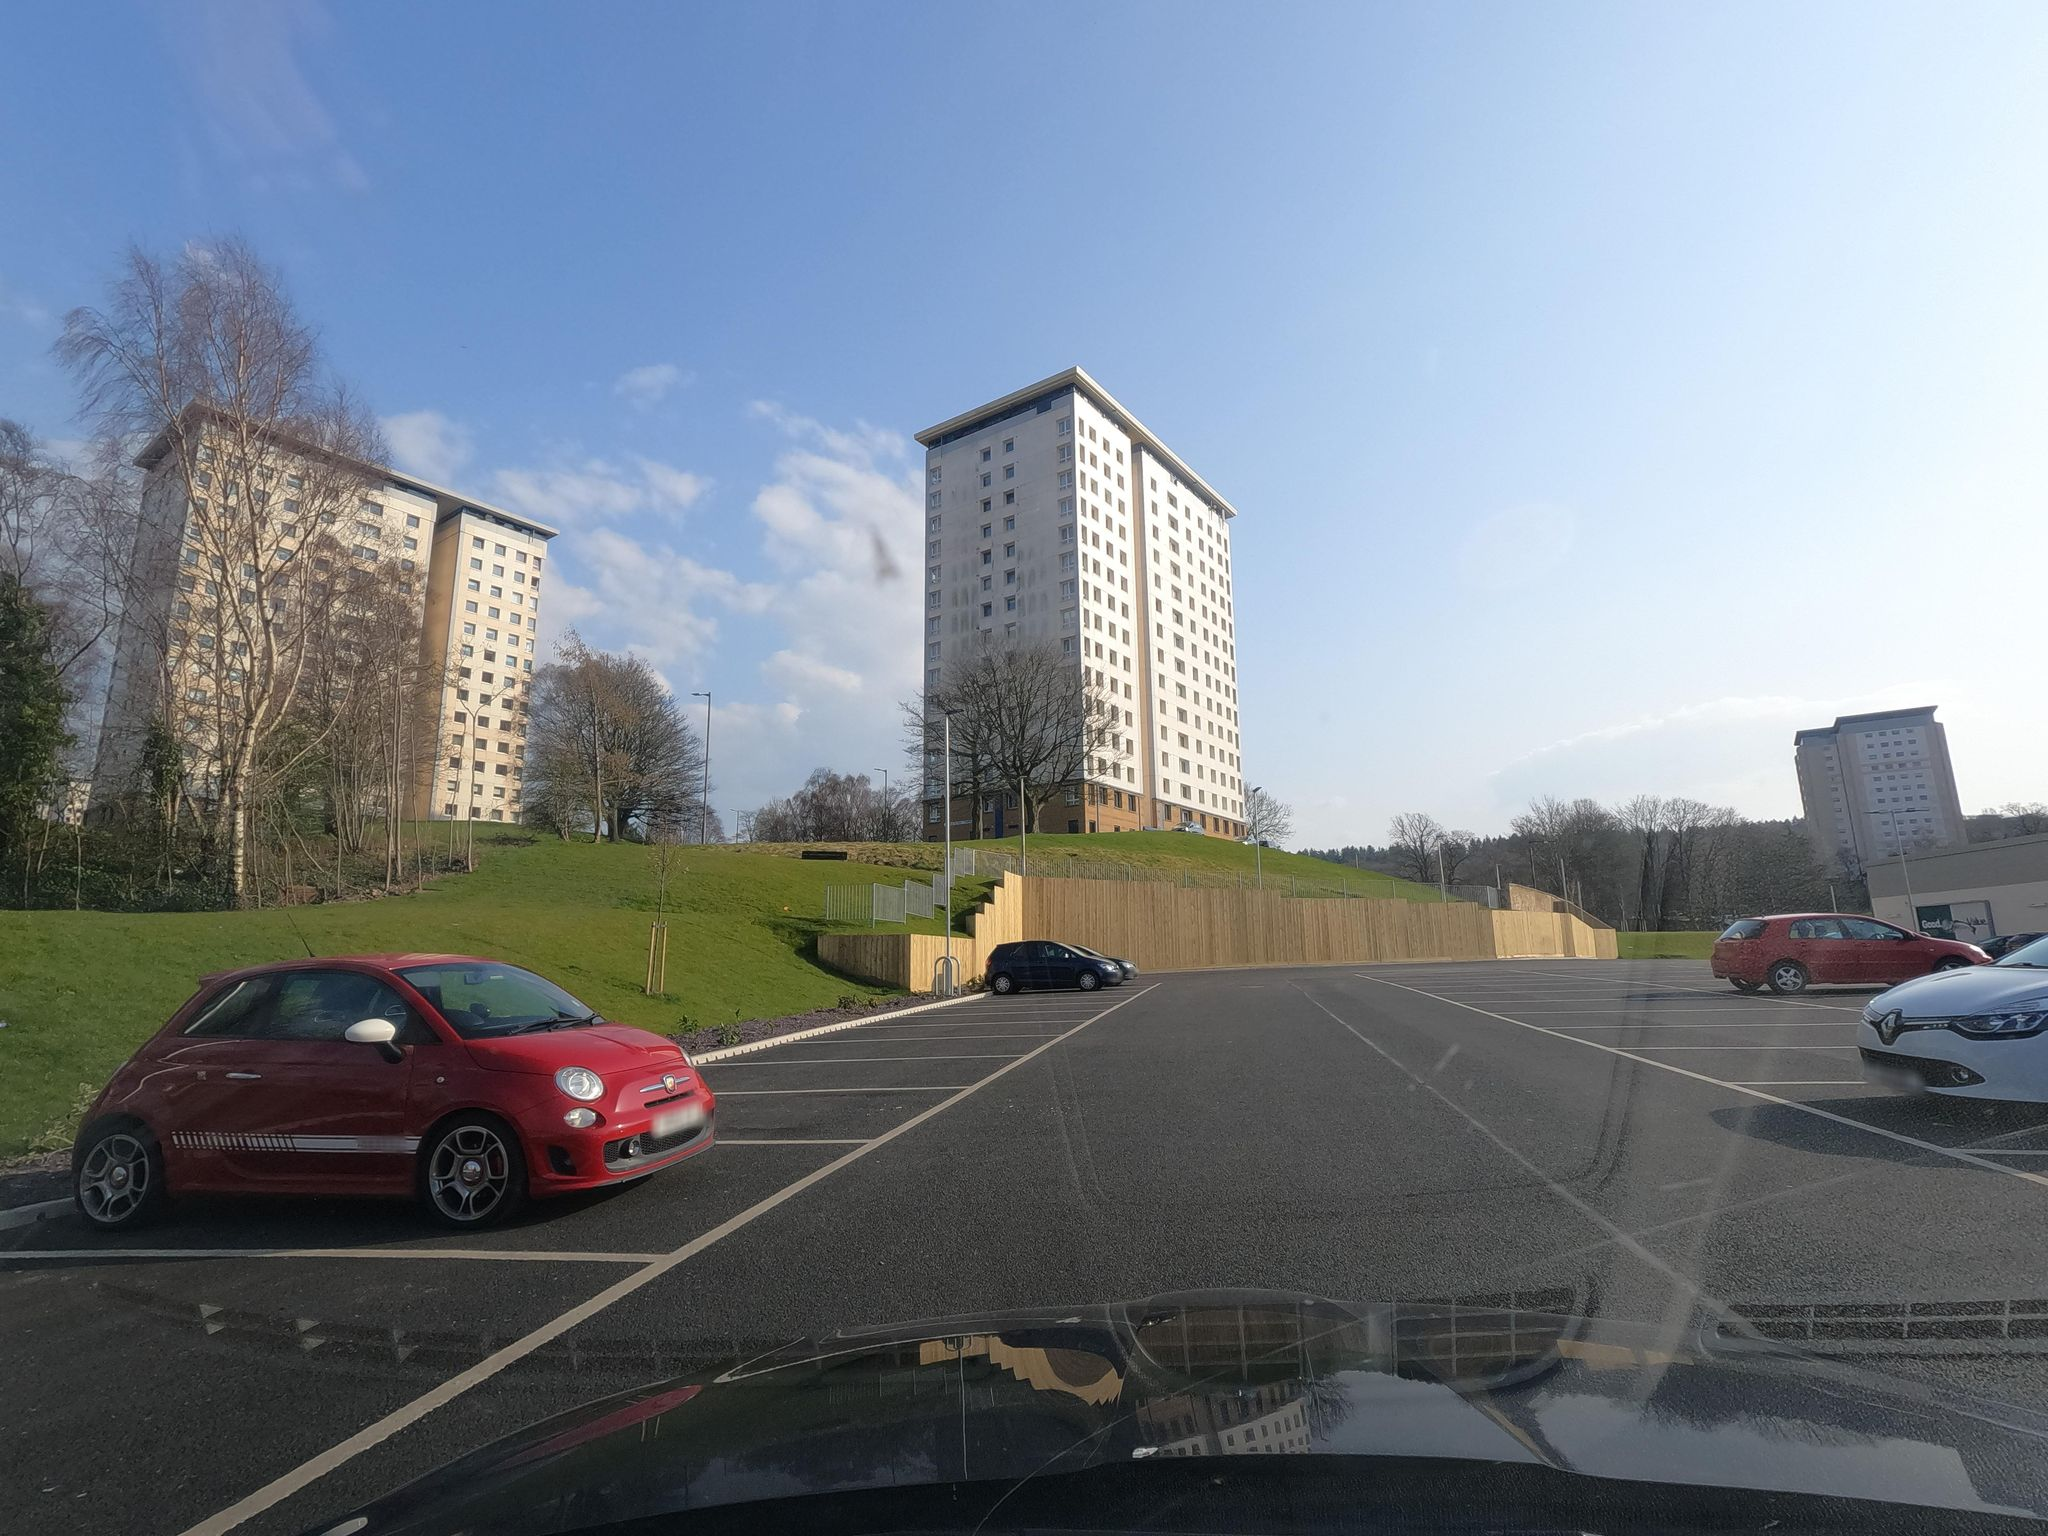car: (71, 954, 721, 1234), (1856, 928, 2046, 1113), (1709, 908, 1993, 994), (982, 939, 1122, 992), (1071, 942, 1138, 984)
